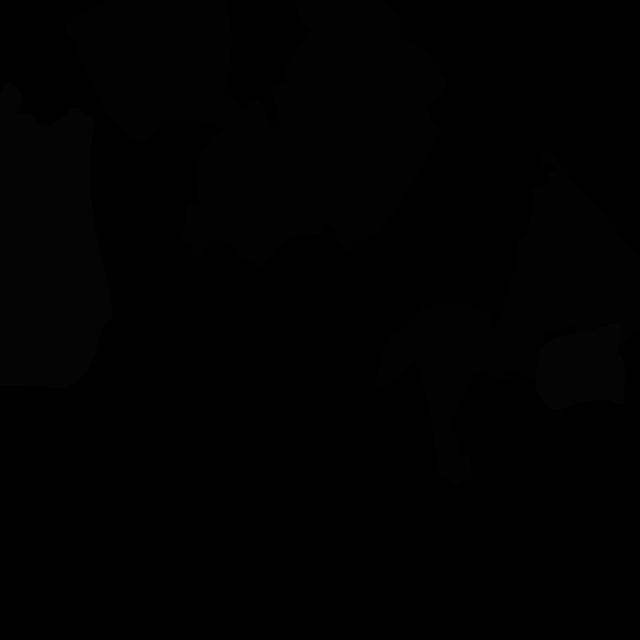cardboard: (179, 0, 448, 270), (65, 0, 242, 144), (376, 301, 514, 458), (486, 183, 592, 383), (539, 150, 640, 349), (436, 454, 472, 491)
soft_plastic: (0, 82, 113, 389), (536, 321, 625, 410)
